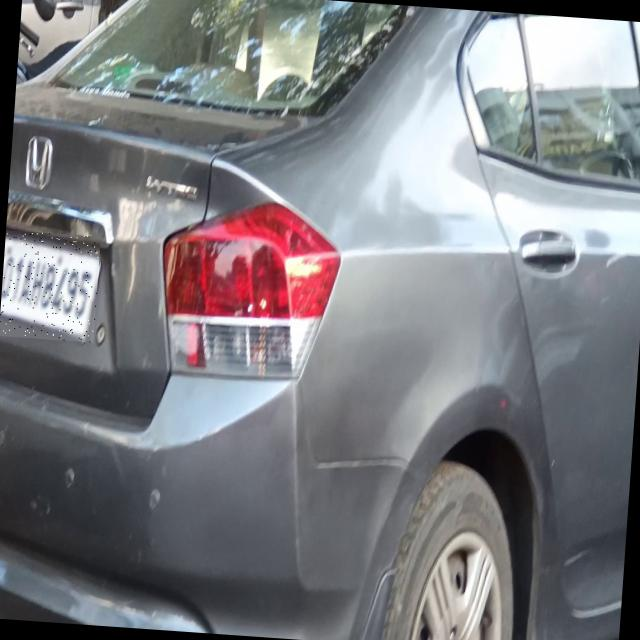Plate: (1, 231, 101, 343)
